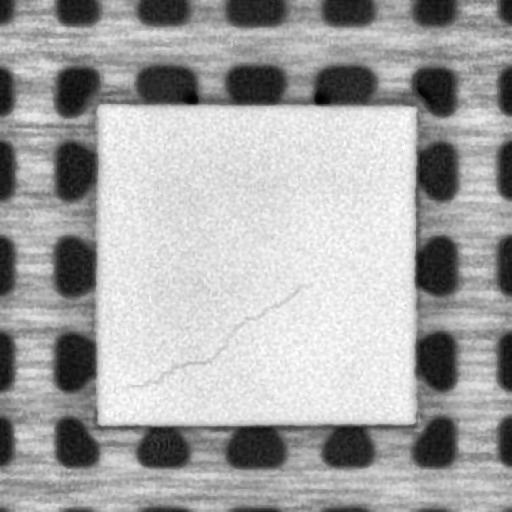DIE_CRACK: (128, 284, 300, 389)
